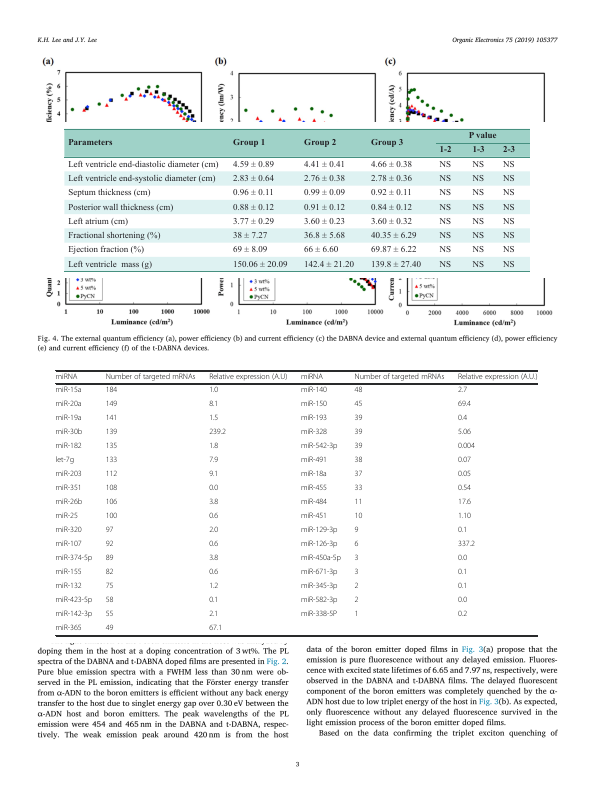borderless: (54, 369, 537, 635), (63, 127, 530, 271)
cell: (66, 160, 219, 170), (66, 174, 216, 184), (66, 203, 174, 213), (66, 231, 161, 241), (66, 188, 151, 199), (66, 260, 152, 270), (66, 245, 144, 256), (353, 373, 445, 382), (105, 373, 196, 382), (457, 373, 538, 382), (208, 373, 288, 382), (66, 217, 128, 227), (232, 260, 288, 270), (370, 245, 417, 256), (303, 260, 354, 270), (370, 260, 421, 270), (370, 231, 417, 241), (232, 188, 274, 199), (303, 188, 345, 199), (370, 188, 412, 199), (67, 139, 113, 149), (232, 160, 274, 170), (303, 160, 345, 170), (370, 160, 412, 170), (232, 174, 274, 184), (303, 174, 345, 184), (370, 174, 412, 184), (232, 203, 274, 213), (303, 203, 345, 213), (370, 203, 412, 213), (232, 217, 274, 227), (303, 217, 345, 227), (370, 217, 412, 227), (303, 231, 345, 241), (300, 554, 342, 564), (232, 245, 268, 256), (303, 245, 339, 256), (300, 442, 338, 452), (300, 526, 338, 536), (300, 540, 338, 550), (55, 554, 93, 564), (300, 568, 338, 578), (300, 582, 338, 592), (55, 596, 93, 606), (300, 596, 338, 606), (55, 610, 93, 620), (300, 610, 338, 620), (232, 231, 268, 241), (369, 139, 404, 149), (232, 139, 266, 149), (303, 139, 337, 149), (467, 132, 497, 142), (300, 386, 328, 396), (300, 400, 328, 410), (300, 414, 328, 424), (55, 428, 83, 438), (300, 428, 328, 438), (300, 456, 328, 466), (300, 470, 328, 480), (300, 484, 328, 494), (55, 498, 83, 508), (300, 498, 328, 508), (300, 512, 328, 522), (55, 386, 82, 396), (55, 400, 82, 410), (55, 414, 82, 424), (55, 442, 82, 452), (55, 470, 82, 480), (55, 484, 82, 494), (55, 526, 82, 536), (55, 540, 82, 550), (55, 568, 82, 578), (55, 582, 82, 592), (55, 624, 82, 634), (55, 512, 79, 522), (300, 373, 324, 382), (55, 373, 78, 382), (55, 456, 75, 466), (208, 428, 227, 438), (457, 442, 476, 452), (457, 540, 476, 550), (438, 188, 452, 199), (471, 188, 485, 199), (438, 245, 452, 256), (471, 245, 485, 256), (457, 400, 472, 410), (457, 428, 472, 438), (457, 456, 472, 466), (457, 470, 472, 480), (457, 484, 472, 494), (457, 498, 472, 508), (457, 512, 472, 522), (208, 624, 223, 634), (502, 188, 515, 199), (502, 245, 515, 256), (438, 146, 452, 156), (471, 146, 485, 156), (501, 146, 515, 156), (438, 160, 452, 170), (471, 160, 485, 170), (438, 174, 452, 184), (471, 174, 485, 184), (438, 203, 452, 213), (471, 203, 485, 213), (438, 217, 452, 227), (471, 217, 485, 227), (438, 231, 452, 241), (471, 231, 485, 241), (438, 260, 452, 270), (471, 260, 485, 270), (502, 160, 515, 170), (502, 174, 515, 184), (502, 203, 515, 213), (502, 217, 515, 227), (502, 231, 515, 241), (502, 260, 515, 270), (105, 386, 118, 396), (105, 400, 118, 410), (105, 414, 118, 424), (105, 428, 118, 438), (105, 442, 118, 452), (105, 456, 118, 466), (105, 470, 118, 480), (105, 484, 118, 494), (105, 498, 118, 508), (105, 512, 118, 522), (208, 386, 219, 396), (457, 386, 468, 396), (208, 400, 219, 410), (208, 414, 219, 424), (457, 414, 468, 424), (208, 442, 219, 452), (208, 456, 219, 466), (208, 470, 219, 480), (208, 484, 219, 494), (208, 498, 219, 508), (208, 512, 219, 522), (208, 526, 219, 536), (457, 526, 468, 536), (208, 540, 219, 550), (208, 554, 219, 564), (457, 554, 468, 564), (208, 568, 219, 578), (457, 568, 468, 578), (208, 582, 219, 592), (457, 582, 468, 592), (208, 596, 219, 606), (457, 596, 468, 606), (208, 610, 219, 620), (457, 610, 468, 620), (353, 386, 363, 396), (353, 400, 363, 410), (353, 414, 363, 424), (353, 428, 363, 438), (353, 442, 363, 452), (353, 456, 363, 466), (353, 470, 363, 480), (353, 484, 363, 494), (353, 498, 363, 508), (353, 512, 363, 522), (105, 526, 114, 536), (105, 540, 114, 550), (105, 554, 114, 564), (105, 568, 114, 578), (105, 582, 114, 592), (105, 596, 114, 606), (105, 610, 114, 620), (105, 624, 114, 634), (353, 526, 359, 536), (353, 540, 359, 550), (353, 554, 359, 564), (353, 568, 359, 578), (353, 582, 359, 592), (353, 596, 359, 606), (353, 610, 359, 620)
